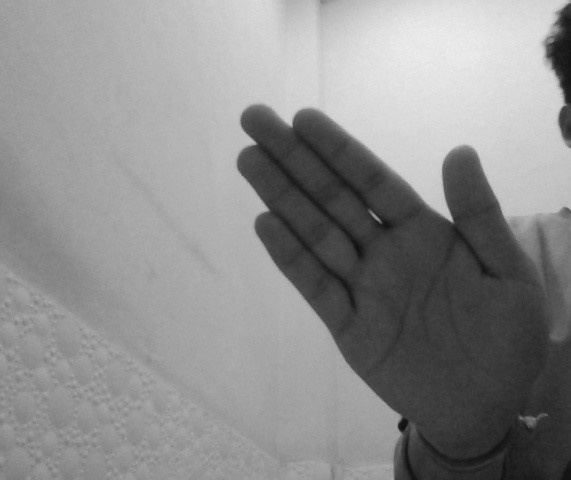Hello: (232, 102, 551, 440)
